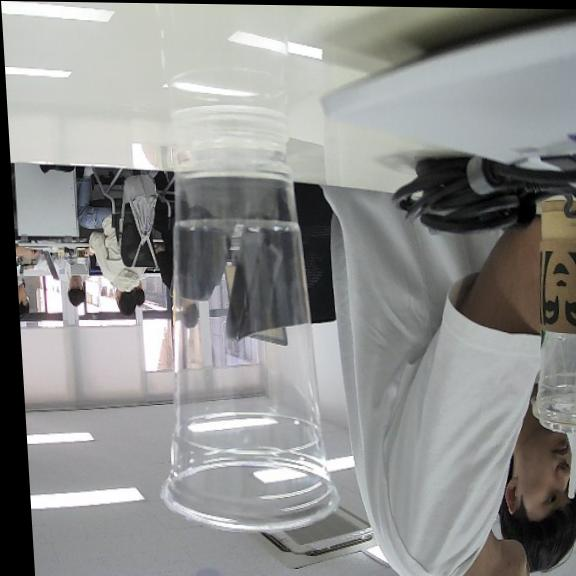Plastik: (161, 134, 337, 530)
